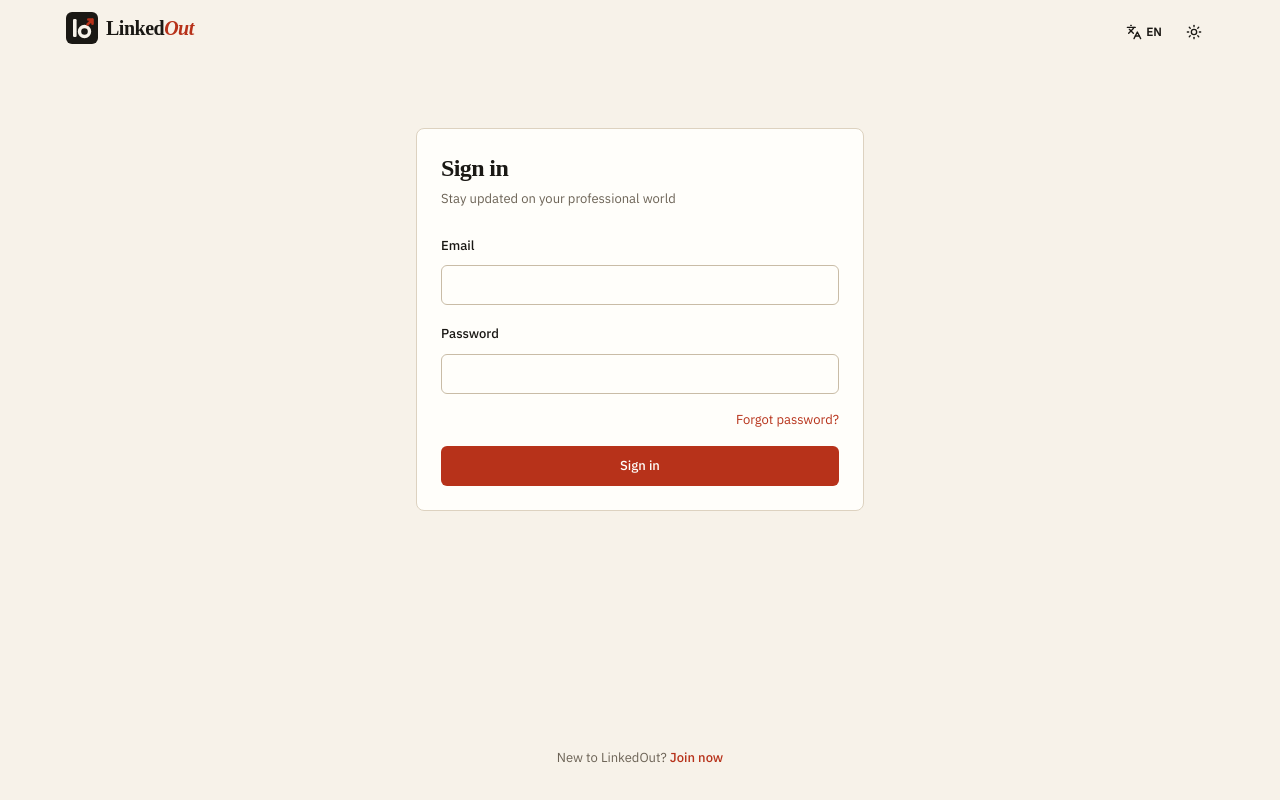
LoginPage › shows validation errors from the shared Zod schema
In the field labelled "Email": [640, 285] box x1=441 y1=265 x2=839 y2=305, type "not-an-email"
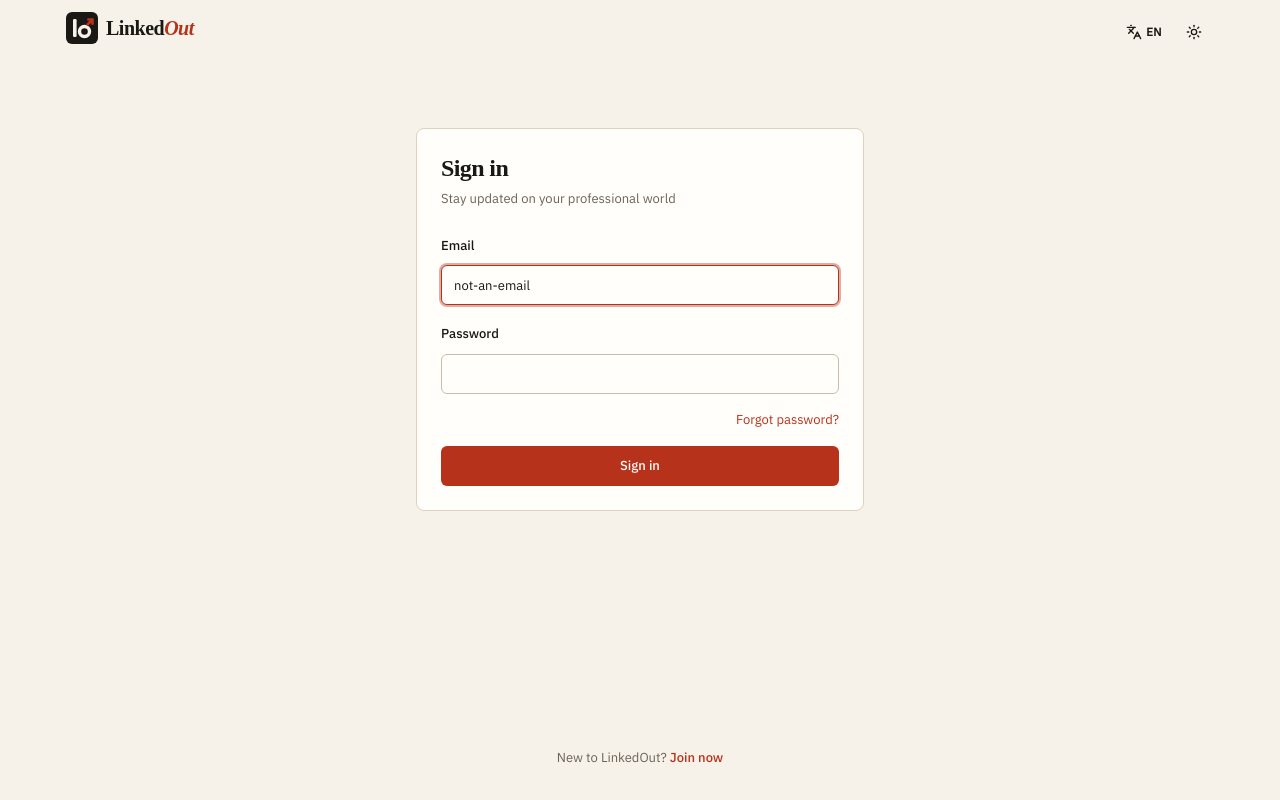
Click the button "Sign in": [640, 466] box x1=441 y1=446 x2=839 y2=486
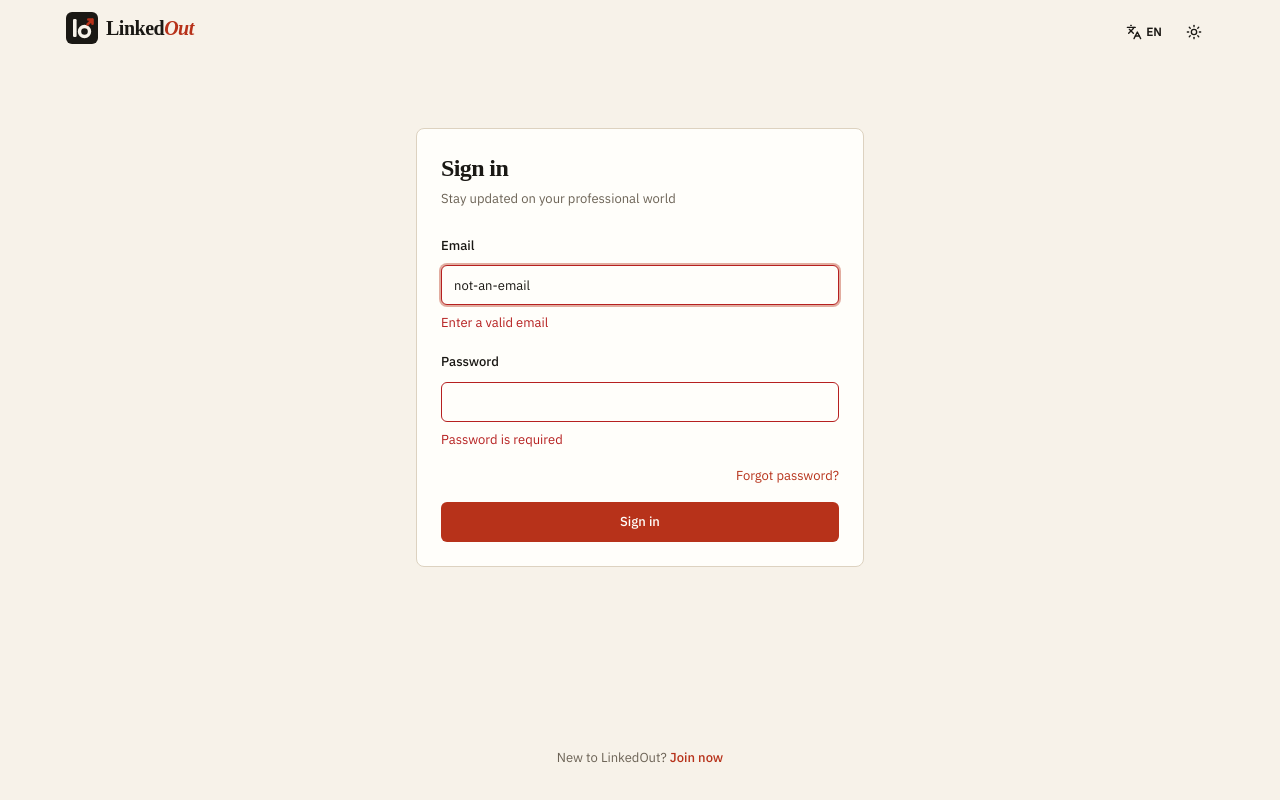
Check: the text "Enter a valid email" is shown, box x1=441 y1=314 x2=548 y2=331
Check: the text "Password is required" is shown, box x1=441 y1=431 x2=563 y2=448
